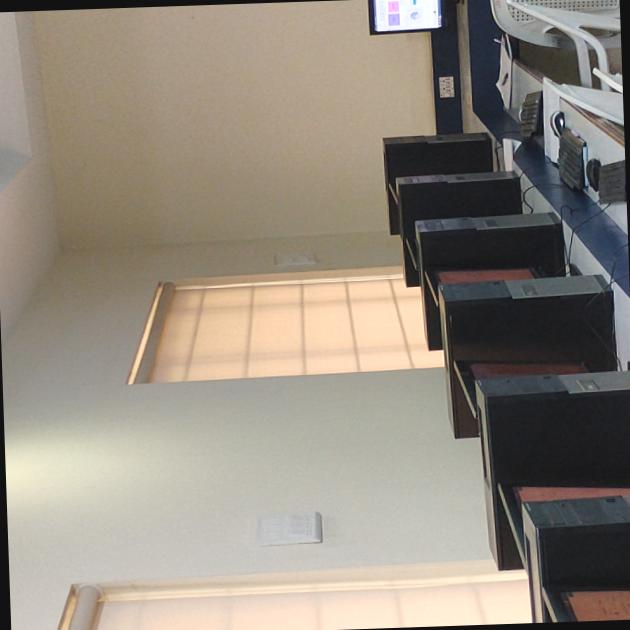cpu: (461, 354, 630, 471)
windowscreen: (102, 220, 443, 392)
